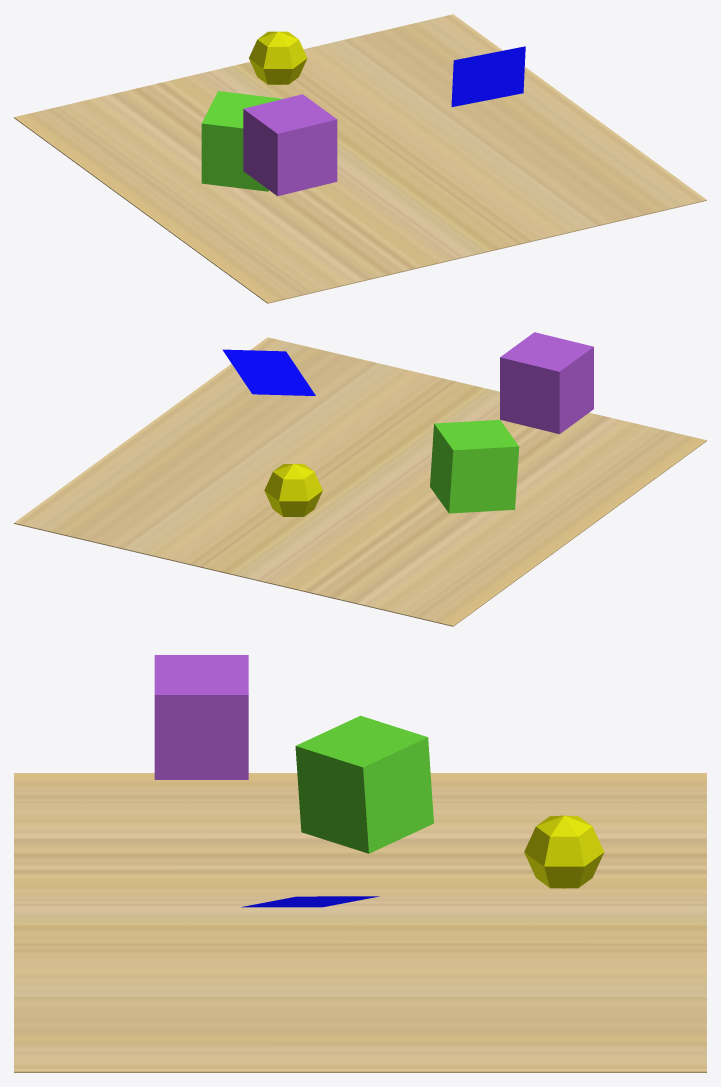
3 views of the same model, one above another, from view 1: azimuth 30°, elevation 25°; view 2: azimuth 150°, elevation 25°; view 3: azimuth 270°, elevation 25° (orthographic). The views are drawn at different scales.
Bounding box in the file's own units: 9.94 × 2.63 × 9.94.
5 materials, 1 textured.
